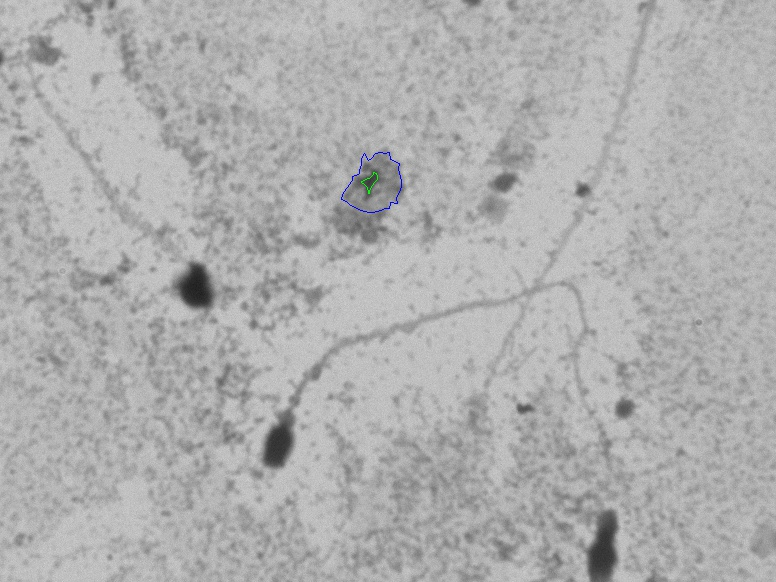Abnormal: (258, 243, 626, 523)
